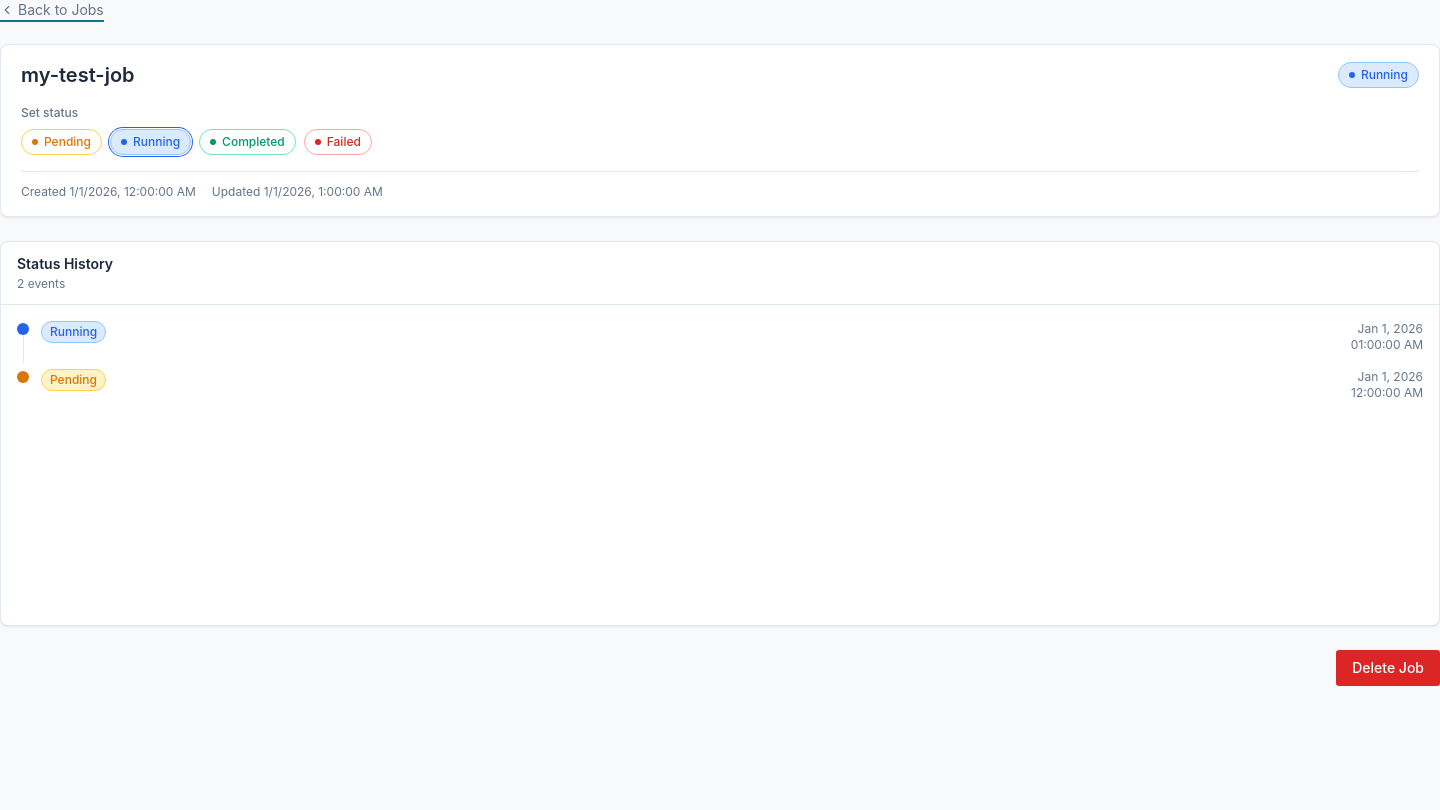
Test: JobDetail — delete › closes the modal when Cancel is clicked
The width and height of the screenshot is (1440, 810).
Step 1. Click the button "Delete Job" → (1388, 668), box [1336,650,1439,686]
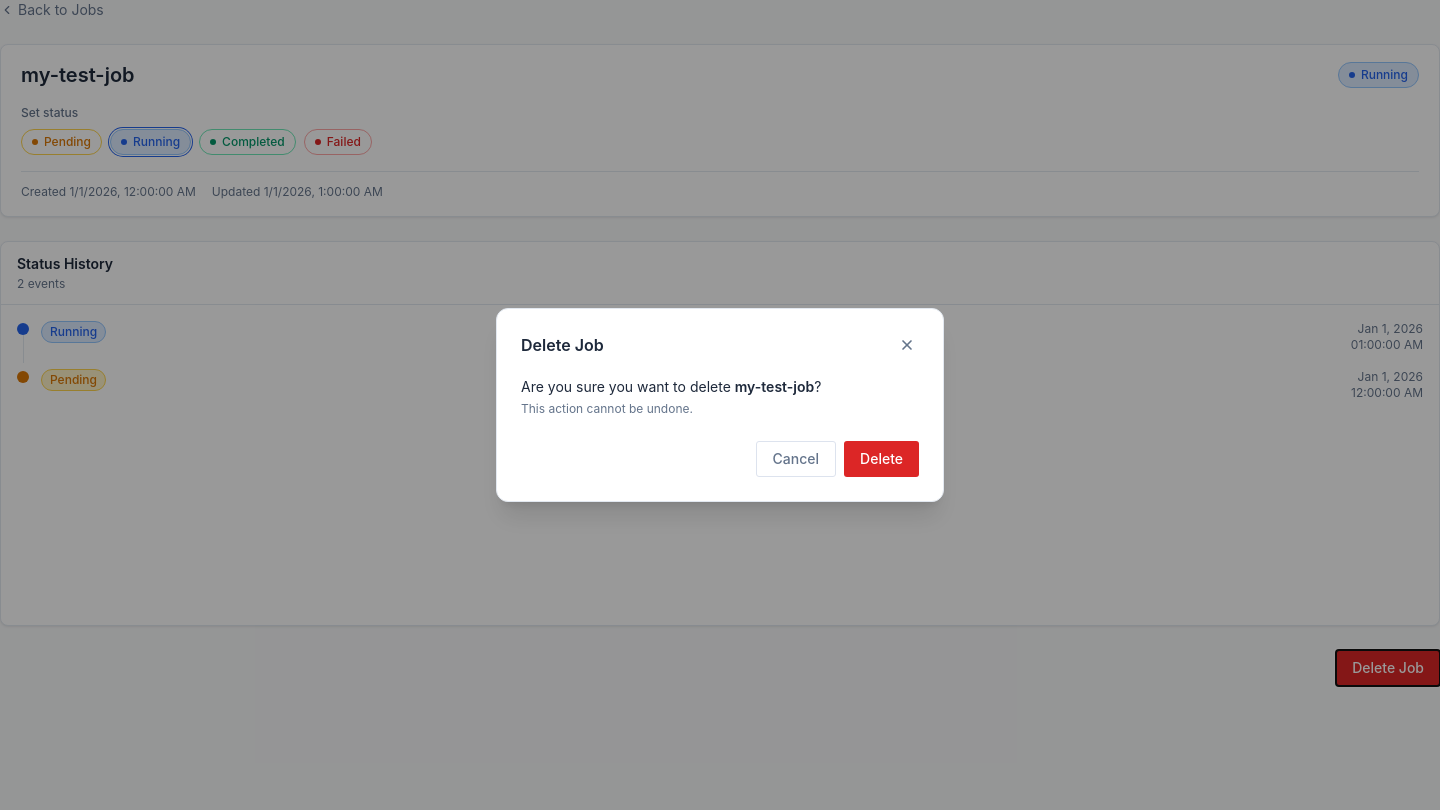
Step 2. Click the button "Cancel" → (796, 459), box [756,441,836,477]
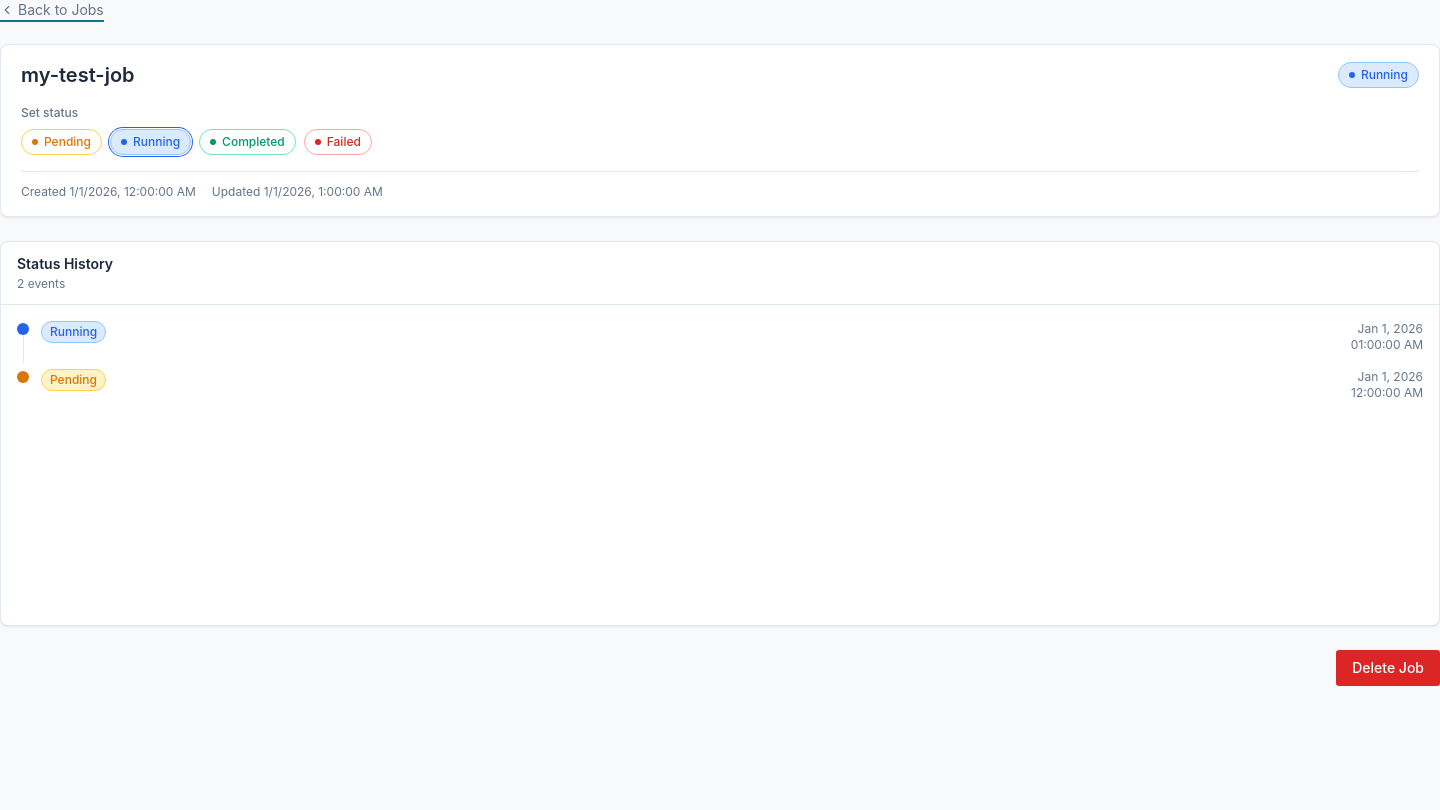
Expected: the text "Are you sure" is gone
